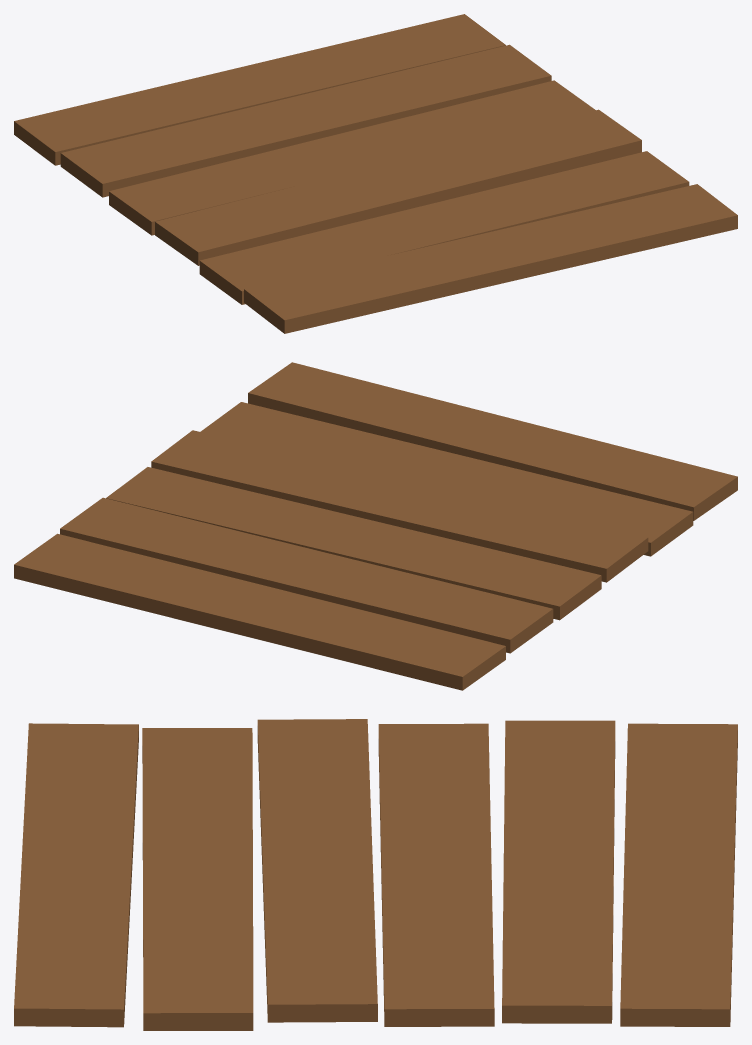
The model's file is jettiboard_02_a.fbx.
The picture shows the model from 3 angles, top to bottom: view 1: azimuth 30°, elevation 25°; view 2: azimuth 150°, elevation 25°; view 3: azimuth 270°, elevation 25°; orthographic projection. The views are drawn at different scales.
Visible parts, largest first — view 1: JettiBoard_02_a; view 2: JettiBoard_02_a; view 3: JettiBoard_02_a.
Boxes of the visible parts, x1,y1,x2,y2 form: JettiBoard_02_a: (14,14,737,333); JettiBoard_02_a: (14,362,737,690); JettiBoard_02_a: (14,719,737,1030).
Size of the model in its own units: 41.6 by 44.5 by 1.79.
